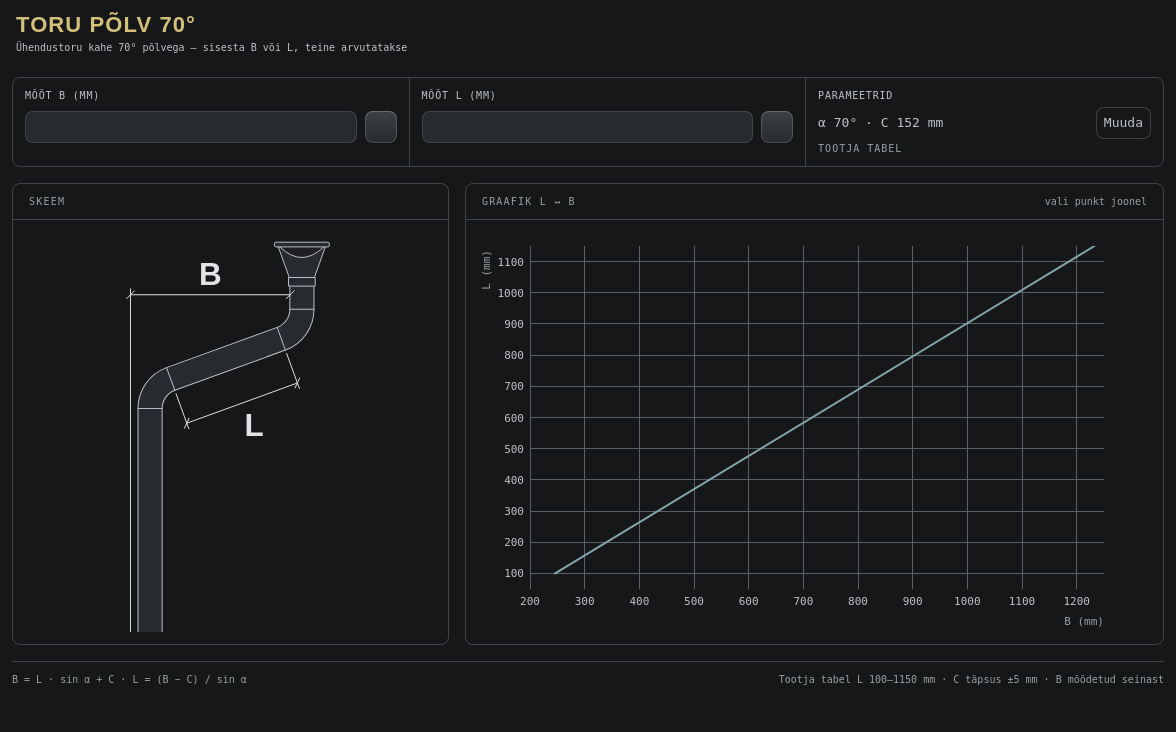
Test: the Toru põlv 70° calculator › keeps α and C folded away, and says when they are no longer the chart's
The width and height of the screenshot is (1176, 732).
Check: the text "α 70° · C 152 mm" is shown, box [818,115,943,130]
Check: the text "tootja tabel" is shown, box [818,142,902,154]
Click the button "Muuda": (1123, 122) [1096,106,1151,138]
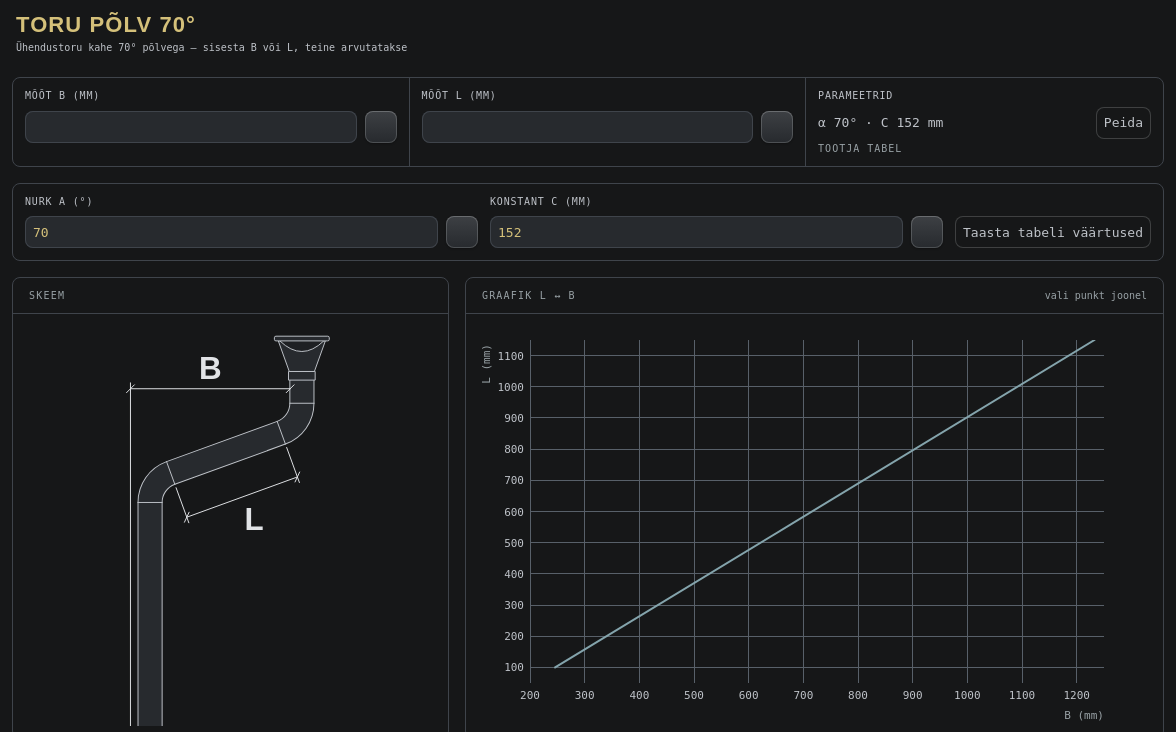
Replace the text in the field with id "input-toru-C" with "160": (696, 232) [490,216,903,248]
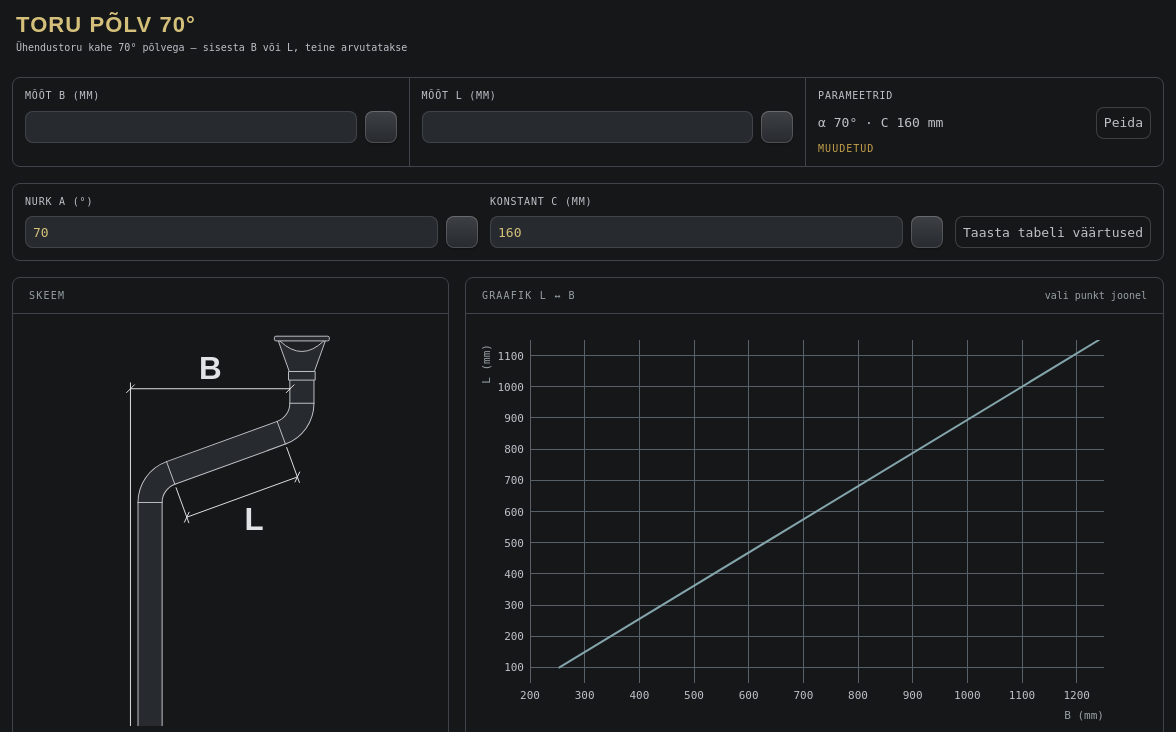
Click the button "Peida": (1123, 122) [1096,106,1151,138]
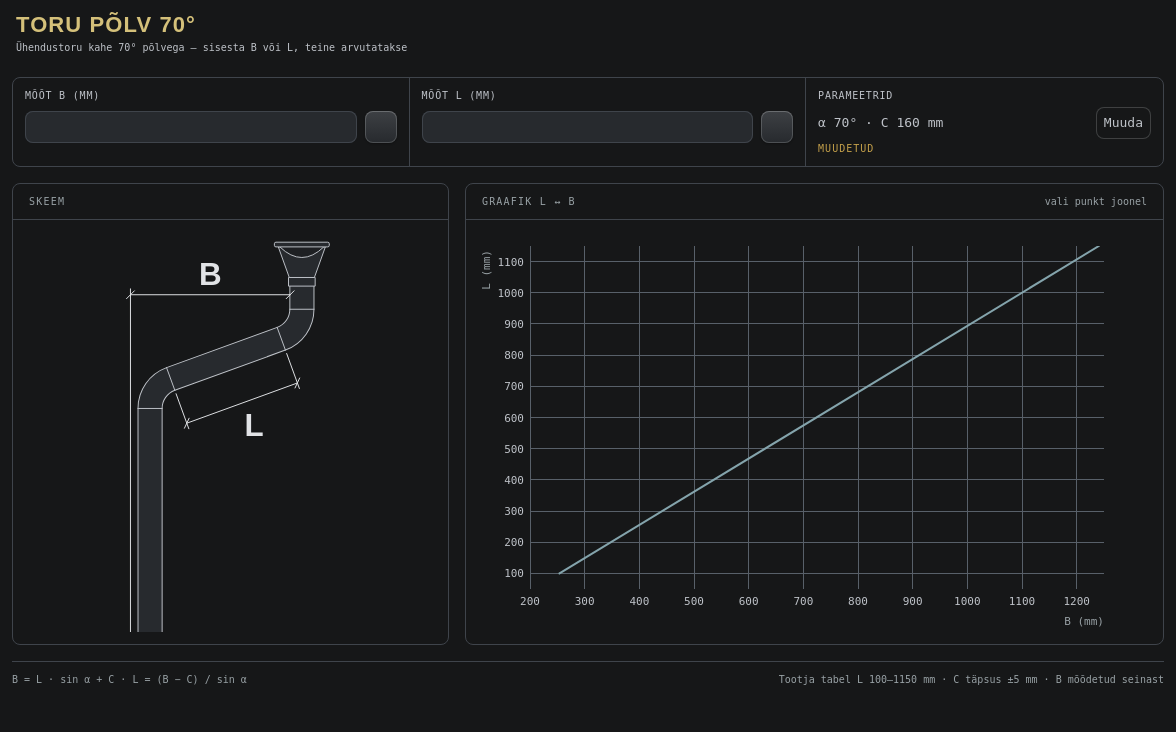
Check: the text "α 70° · C 160 mm" is shown, box [818,115,943,130]
Check: the text "muudetud" is shown, box [818,142,874,154]
Check: the label with id "input-toru-C" is gone
